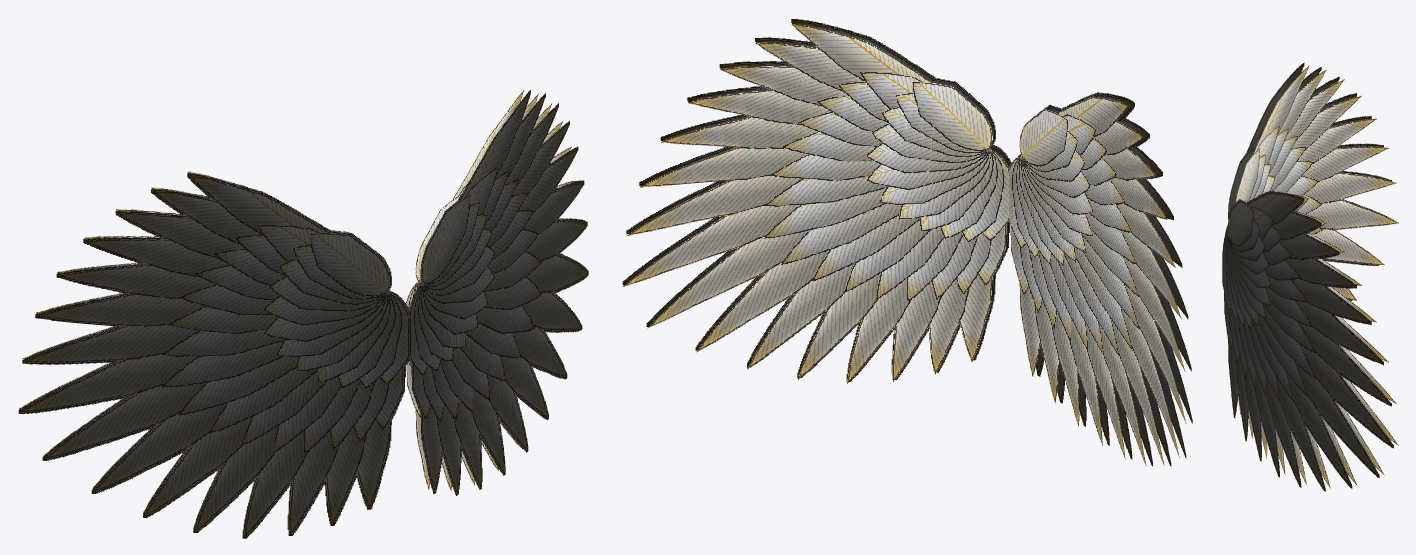
File: seraph_gold_wings.glb
3 views of the same model, side by side, from view 1: azimuth 30°, elevation 25°; view 2: azimuth 150°, elevation 25°; view 3: azimuth 270°, elevation 25° (orthographic). The views are drawn at different scales.
Parts seen in each view (by area): view 1: Seraph Gold Wings Wing Right, Seraph Gold Wings Wing Left; view 2: Seraph Gold Wings Wing Left, Seraph Gold Wings Wing Right; view 3: Seraph Gold Wings Wing Left, Seraph Gold Wings Wing Right.
Part boxes in pixels (bbox=[...]): Seraph Gold Wings Wing Right: bbox=[18, 171, 411, 538]; Seraph Gold Wings Wing Left: bbox=[405, 90, 588, 495]; Seraph Gold Wings Wing Left: bbox=[622, 19, 1011, 383]; Seraph Gold Wings Wing Right: bbox=[1009, 92, 1192, 466]; Seraph Gold Wings Wing Left: bbox=[1222, 191, 1398, 491]; Seraph Gold Wings Wing Right: bbox=[1222, 63, 1398, 301].
Bounding box in the file's own units: 2 × 1.23 × 0.6693.
2 materials, 2 textured.
